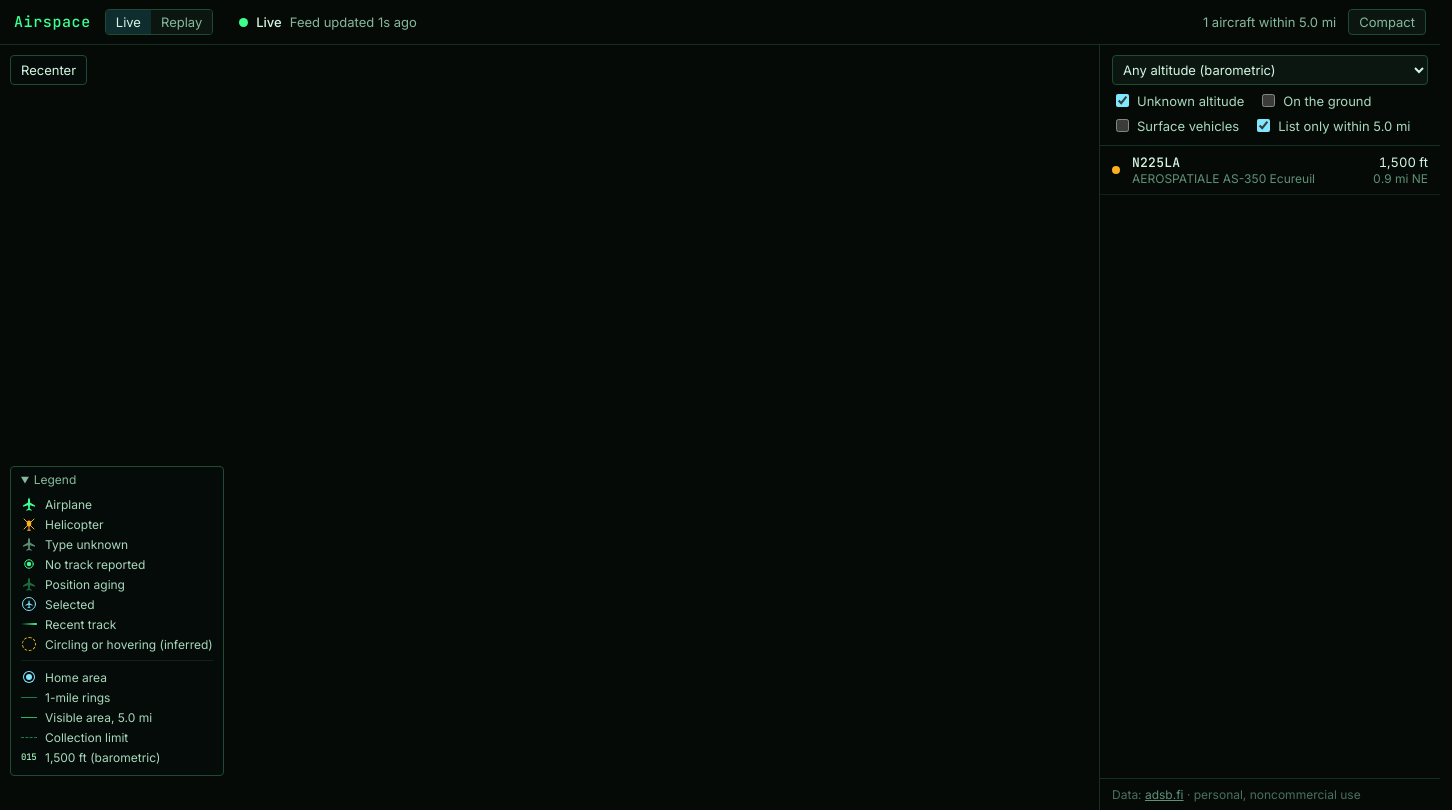
Test: Replay mode › toggles between live and replay, plays with the keyboard and syncs the URL
The image size is (1452, 810).
Click the button "Replay". click: (182,22)
box: x1=151 y1=10 x2=212 y2=34
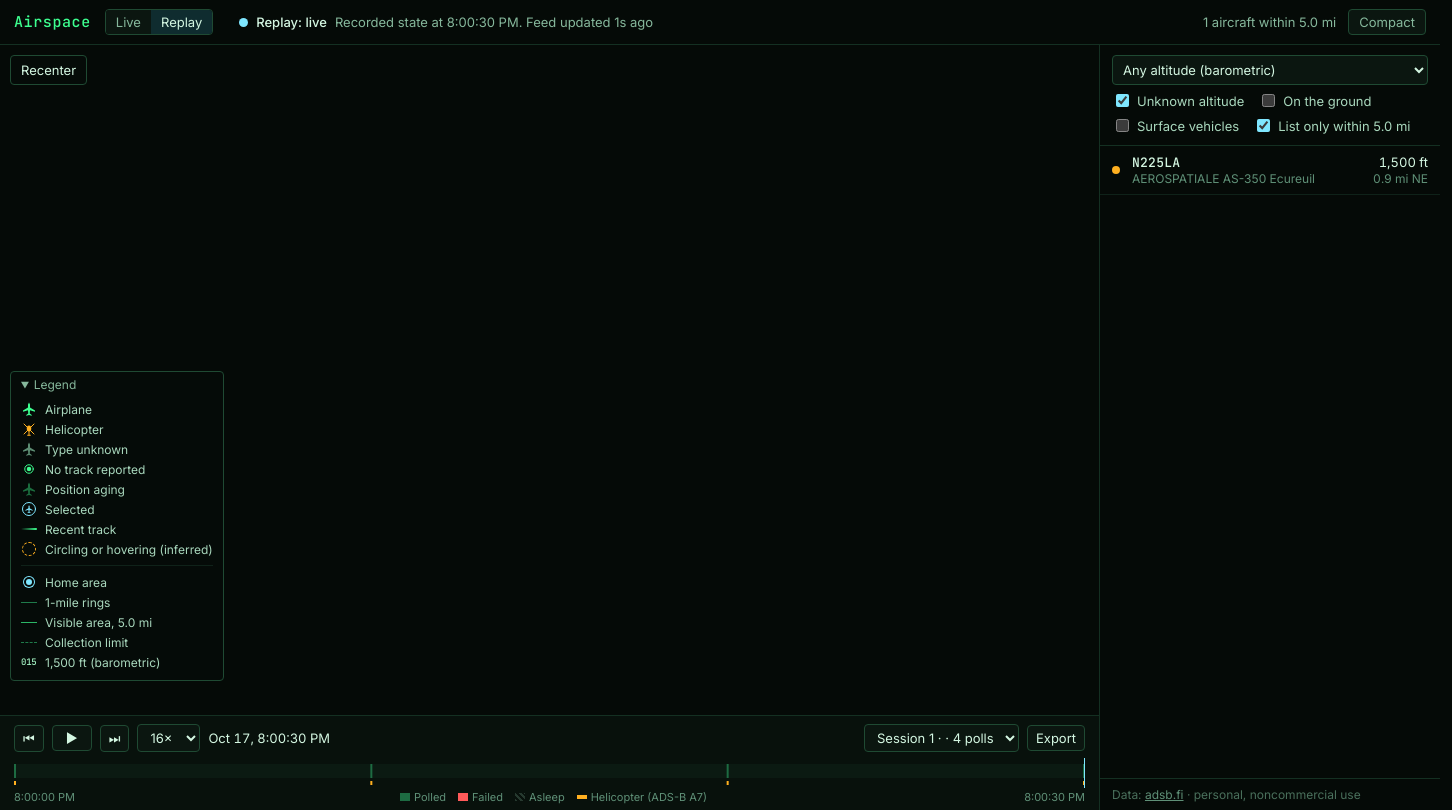
Result: the element with test id "timeline" is shown at x1=0 y1=715 x2=1099 y2=809
// Space restarts from the beginning, since the playhead is at the end
Press Space
Wait 1000 ms
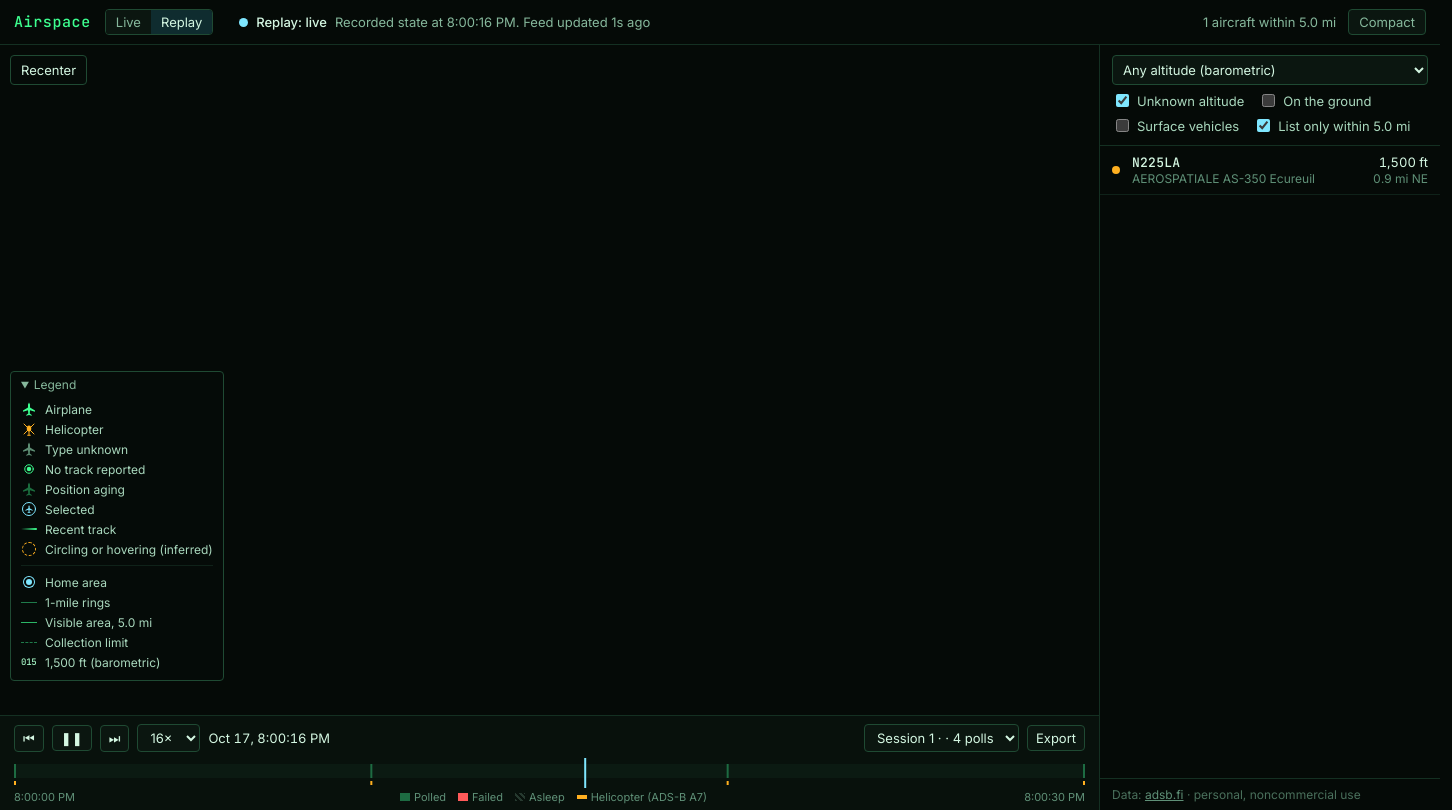
Result: the button with test id "play" has attribute aria-label="Pause" at x1=52 y1=725 x2=92 y2=751
Press Space
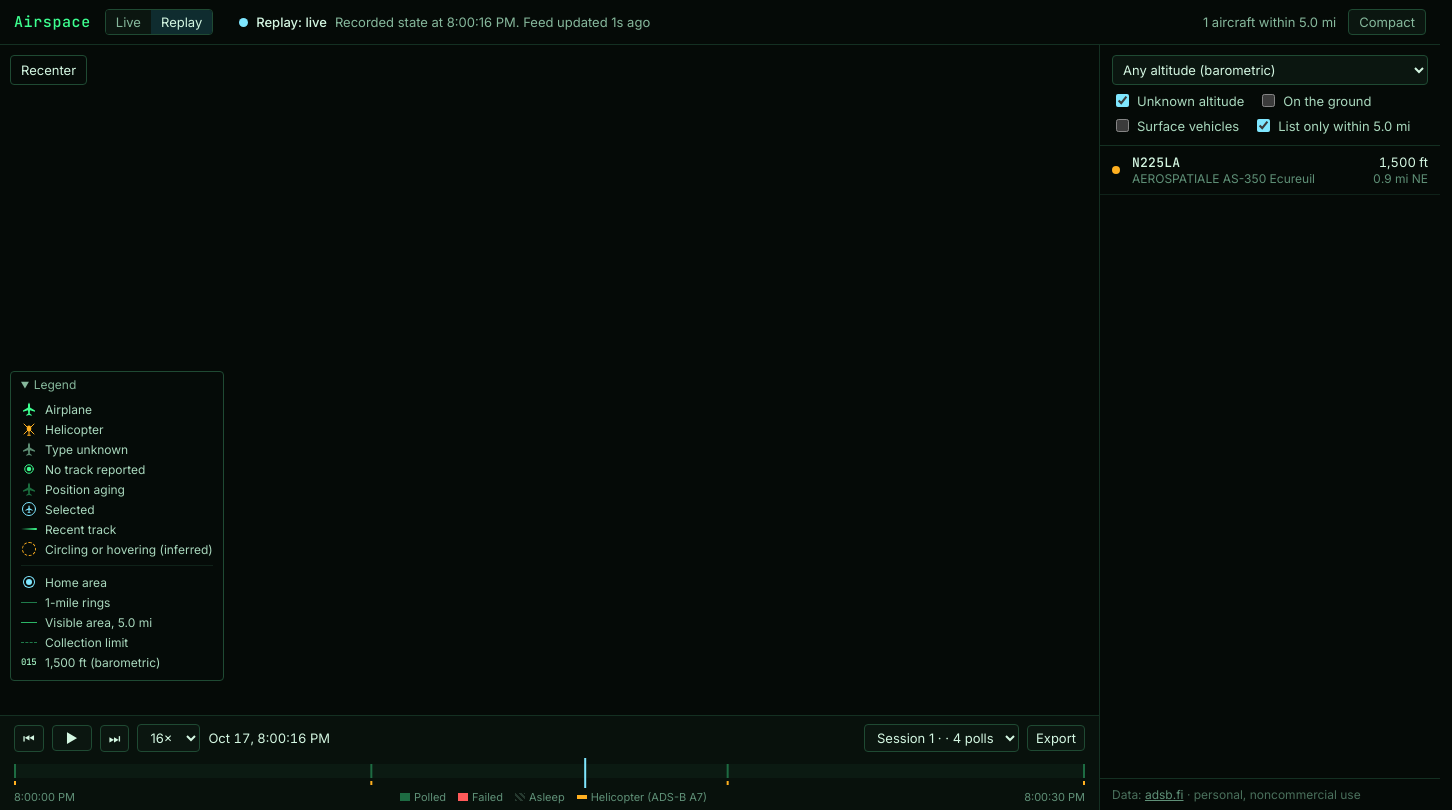
Result: the button with test id "play" has attribute aria-label="Play" at x1=52 y1=725 x2=92 y2=751
Click the button "Live". click: (128,22)
box: x1=106 y1=10 x2=151 y2=34
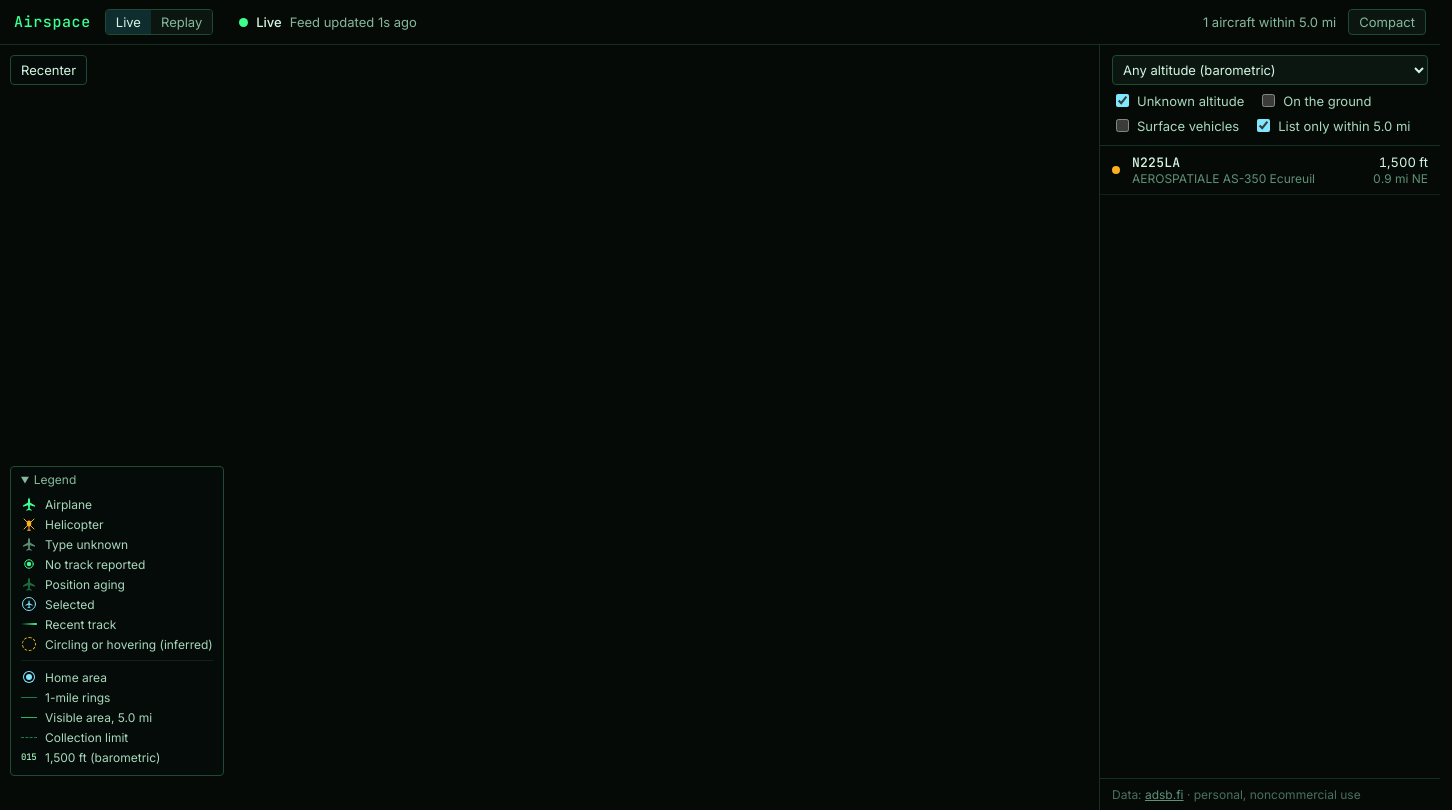
Result: the element with test id "timeline" is gone
